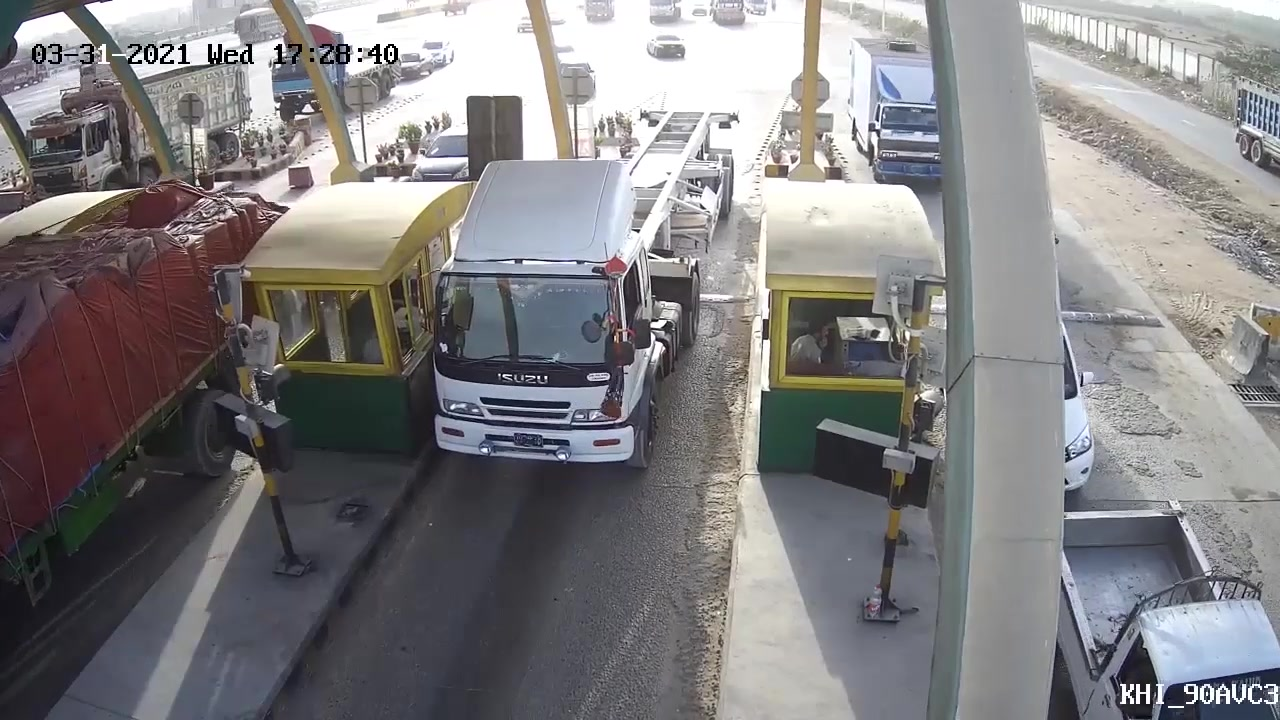F5: (391, 99, 742, 472)
